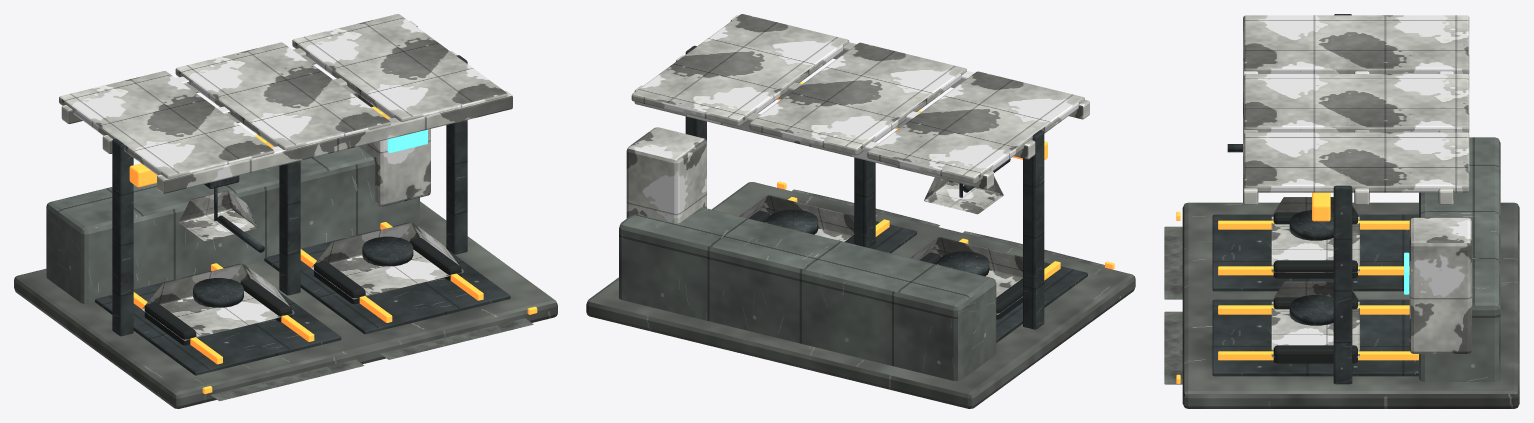
File: war_factory.glb
3 renders of one model, left to right at view 1: azimuth 30°, elevation 25°; view 2: azimuth 150°, elevation 25°; view 3: azimuth 270°, elevation 25°, orthographic. The views are drawn at different scales.
Parts seen in each view (by area): view 1: war_factory_team_primary, war_factory_armor_dark, war_factory_factory_metal, war_factory_concrete_dark, war_factory_team_accent, war_factory_rubber, war_factory_warning_emissive, war_factory_glass_emissive; view 2: war_factory_team_primary, war_factory_factory_metal, war_factory_concrete_dark, war_factory_armor_dark, war_factory_team_accent, war_factory_rubber, war_factory_warning_emissive; view 3: war_factory_team_primary, war_factory_concrete_dark, war_factory_armor_dark, war_factory_factory_metal, war_factory_warning_emissive, war_factory_rubber, war_factory_team_accent.
Part boxes in pixels (x1,y1,x2,y2): war_factory_team_primary: (59, 14, 507, 340); war_factory_armor_dark: (95, 55, 510, 375); war_factory_factory_metal: (46, 146, 419, 303); war_factory_concrete_dark: (14, 201, 557, 408); war_factory_team_accent: (61, 21, 512, 241); war_factory_rubber: (144, 238, 461, 345); war_factory_warning_emissive: (129, 106, 537, 393); war_factory_glass_emissive: (387, 129, 427, 152); war_factory_team_primary: (626, 14, 1084, 314); war_factory_factory_metal: (619, 207, 996, 381); war_factory_concrete_dark: (586, 182, 1135, 408); war_factory_armor_dark: (685, 45, 1087, 342); war_factory_team_accent: (634, 15, 1089, 214); war_factory_rubber: (748, 210, 1022, 319); war_factory_warning_emissive: (777, 82, 1114, 280); war_factory_team_primary: (1244, 15, 1471, 357); war_factory_concrete_dark: (1164, 202, 1519, 408); war_factory_armor_dark: (1212, 14, 1418, 384); war_factory_factory_metal: (1419, 137, 1500, 381); war_factory_warning_emissive: (1176, 192, 1418, 383); war_factory_rubber: (1273, 212, 1357, 363); war_factory_team_accent: (1243, 16, 1453, 204).
Size of the model in its own units: 6.42 by 3.33 by 5.
8 materials, 5 textured.
